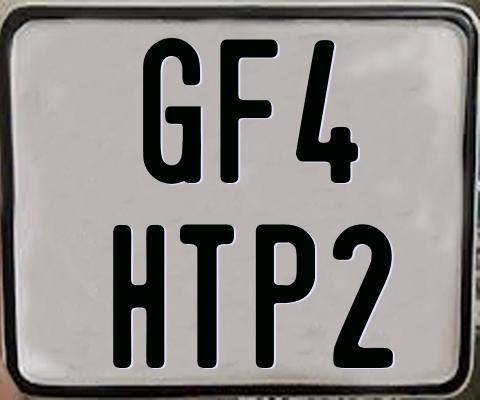2: (331, 222, 396, 371)
4: (293, 38, 361, 184)
F: (217, 38, 277, 186)
G: (141, 36, 199, 186)
H: (111, 223, 168, 371)
P: (254, 223, 313, 367)
T: (178, 221, 234, 367)
